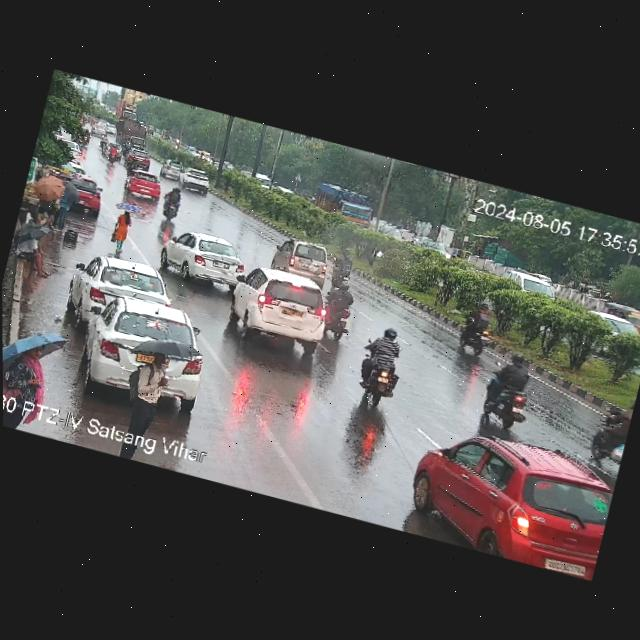car: (400, 418, 619, 581), (70, 282, 220, 409), (220, 258, 342, 361), (62, 247, 181, 348), (154, 225, 251, 296), (269, 234, 337, 285), (59, 173, 107, 216), (122, 170, 163, 204), (177, 168, 213, 196), (156, 156, 189, 182), (123, 146, 153, 172), (181, 166, 214, 188), (88, 122, 109, 138)
motorcycle: (342, 319, 417, 416), (472, 347, 540, 434), (453, 300, 510, 361), (314, 274, 363, 343), (587, 397, 634, 466), (326, 244, 359, 292), (596, 398, 634, 432), (158, 186, 189, 224), (104, 144, 120, 166), (97, 130, 110, 151), (127, 156, 139, 171)
person: (111, 327, 205, 440), (2, 319, 74, 404), (7, 219, 64, 283), (103, 197, 146, 258), (29, 172, 65, 233), (52, 178, 85, 235)
truck: (312, 180, 388, 234), (114, 114, 151, 149)
